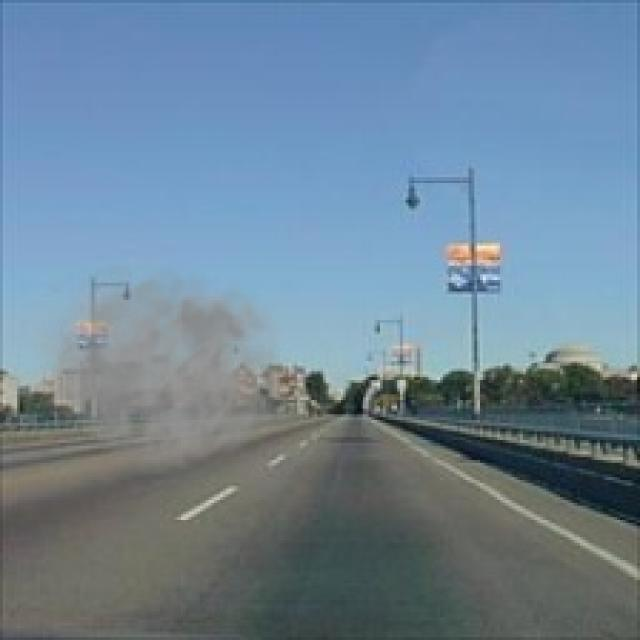smoke: (23, 252, 294, 477)
